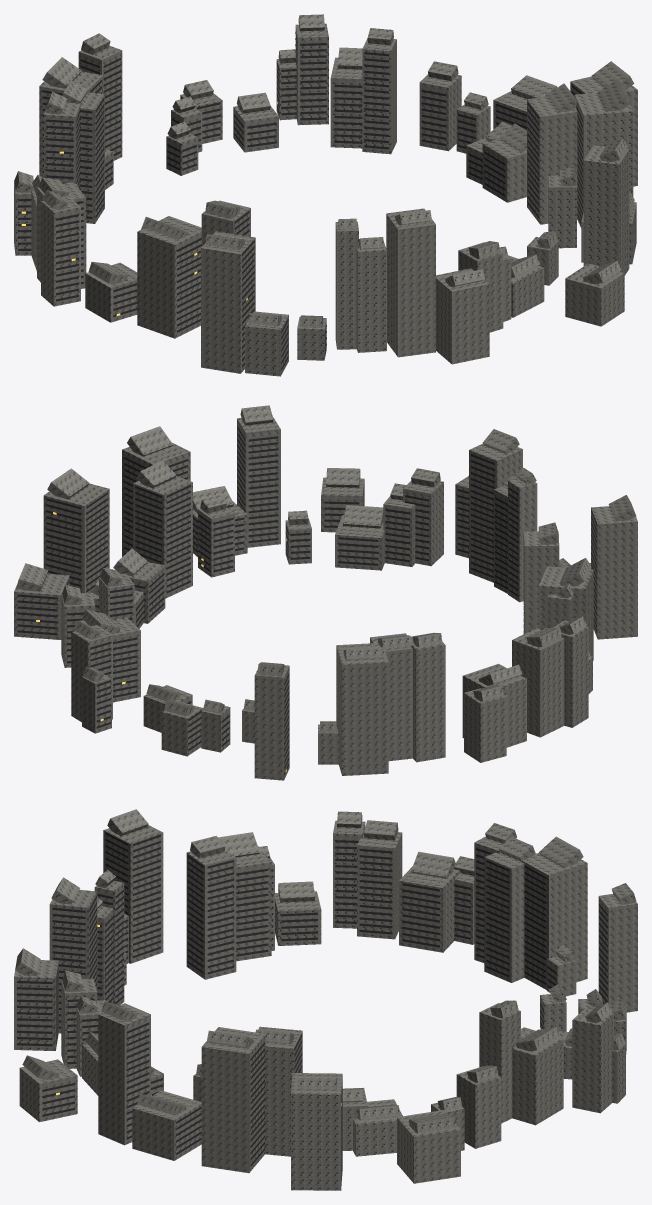
Rendered from skyline.glb.
The picture shows the model from 3 angles, top to bottom: view 1: azimuth 30°, elevation 25°; view 2: azimuth 150°, elevation 25°; view 3: azimuth 270°, elevation 25°; orthographic projection. The views are drawn at different scales.
Visible parts, largest first — view 1: skyline; view 2: skyline; view 3: skyline.
Part boxes in pixels (box(x1,y1,x2,y2)): skyline: box(14, 14, 637, 376); skyline: box(14, 405, 637, 780); skyline: box(14, 809, 637, 1190).
Size of the model in its own units: 304 by 72.45 by 291.
Materials: 3 (1 with a texture image).
